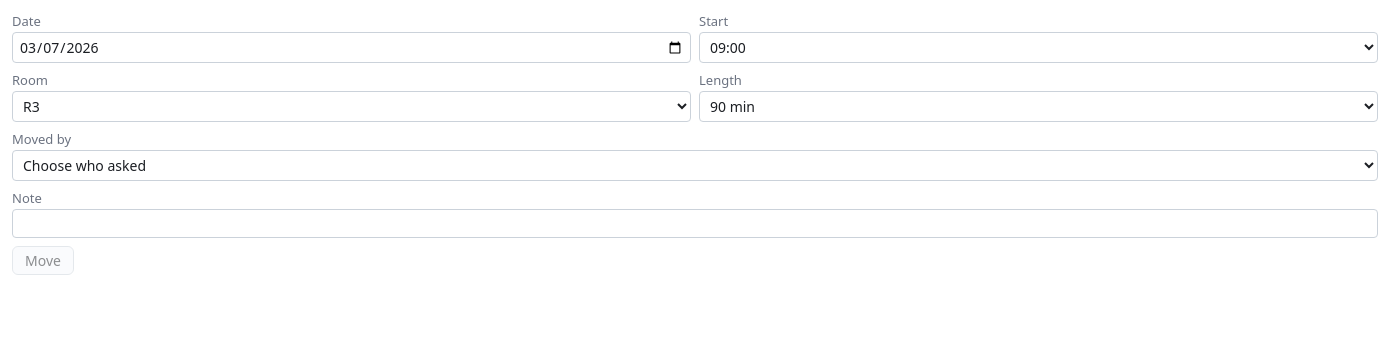
Test case: MoveSessionForm › lists the conflicts of a 409
Select "14:00" in the dropdown labelled "Start": (1038, 48) left=699, top=32, right=1378, bottom=63
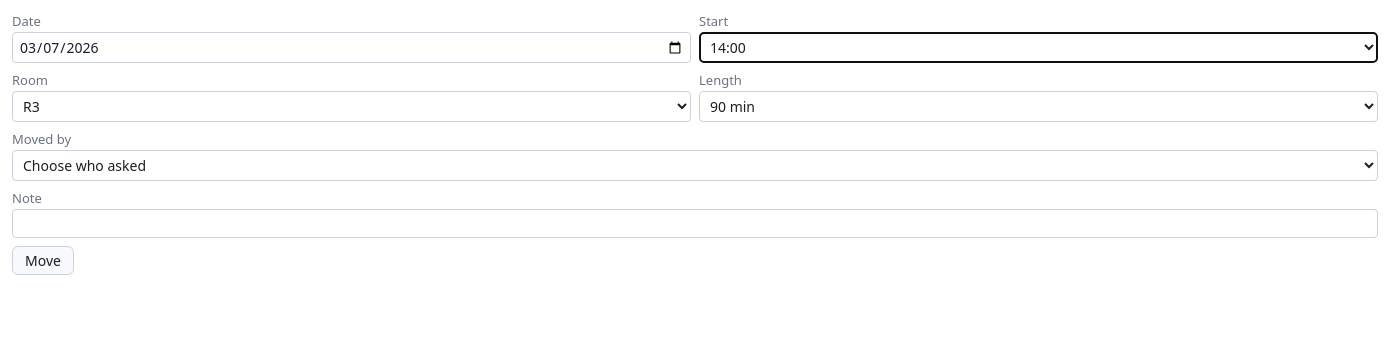
Select "tutor" in the dropdown labelled "Moved by": (695, 166) left=12, top=150, right=1378, bottom=181
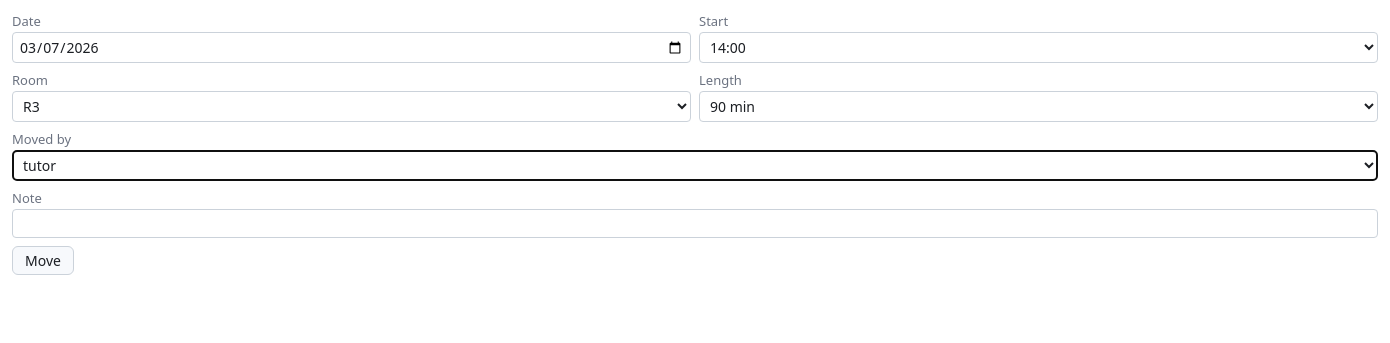
Click the button "Move": (43, 260) left=12, top=246, right=74, bottom=275
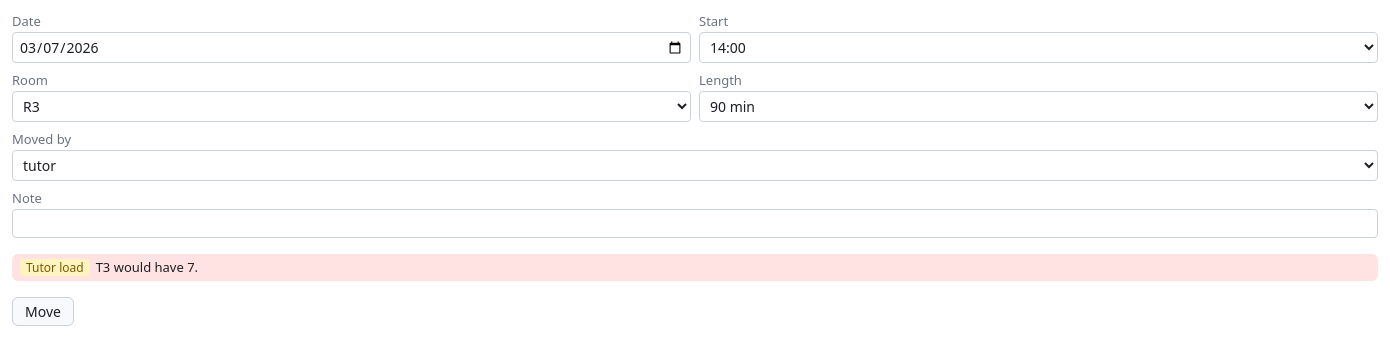
expect the list item reads "Tutor loadT3 would have 7.": met, box left=12, top=254, right=1378, bottom=281
